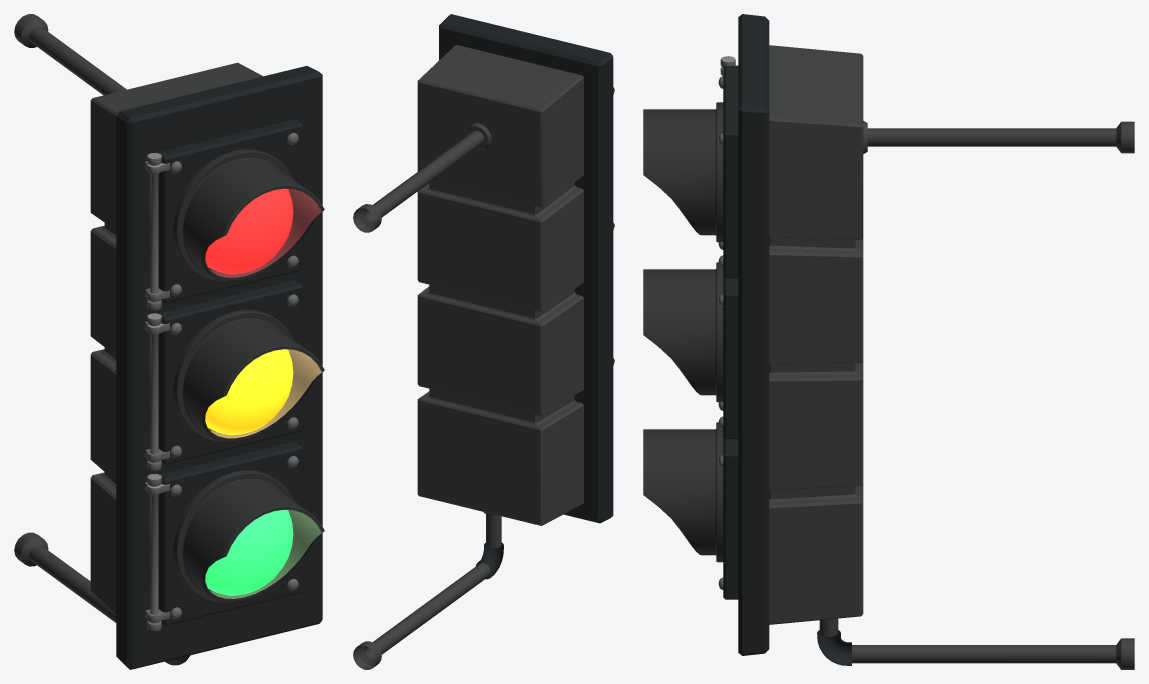
Rendered from Driving.gltf.
The picture shows the model from 3 angles, left to right: view 1: azimuth 30°, elevation 25°; view 2: azimuth 150°, elevation 25°; view 3: azimuth 270°, elevation 25°; orthographic projection. The views are drawn at different scales.
Visible parts, largest first — view 1: Cube.008, Circle.001, Cube.009, Cube.007, Circle.002, Cylinder.016, Circle.003, Circle.004, Icosphere.002; view 2: Cube.007, Cube.008, Circle.004, Circle.003; view 3: Cube.007, Circle.001, Cube.008, Cube.009, Circle.004, Circle.003.
Boxes of the visible parts, x1=… form: Cube.008: x1=116, y1=66, x2=322, y2=669; Circle.001: x1=173, y1=149, x2=324, y2=603; Cube.009: x1=158, y1=119, x2=303, y2=625; Cube.007: x1=90, y1=62, x2=262, y2=614; Circle.002: x1=205, y1=188, x2=293, y2=595; Cylinder.016: x1=145, y1=153, x2=169, y2=631; Circle.003: x1=14, y1=14, x2=126, y2=95; Circle.004: x1=14, y1=532, x2=190, y2=665; Icosphere.002: x1=170, y1=133, x2=298, y2=619; Cube.007: x1=417, y1=44, x2=583, y2=525; Cube.008: x1=439, y1=14, x2=613, y2=523; Circle.004: x1=353, y1=512, x2=503, y2=669; Circle.003: x1=353, y1=123, x2=491, y2=232; Cube.007: x1=769, y1=45, x2=863, y2=624; Circle.001: x1=643, y1=102, x2=723, y2=562; Cube.008: x1=738, y1=14, x2=769, y2=655; Cube.009: x1=723, y1=66, x2=738, y2=599; Circle.004: x1=817, y1=618, x2=1134, y2=669; Circle.003: x1=863, y1=121, x2=1134, y2=153.
Size of the model in its own units: 0.1057 by 0.3148 by 0.2303.
